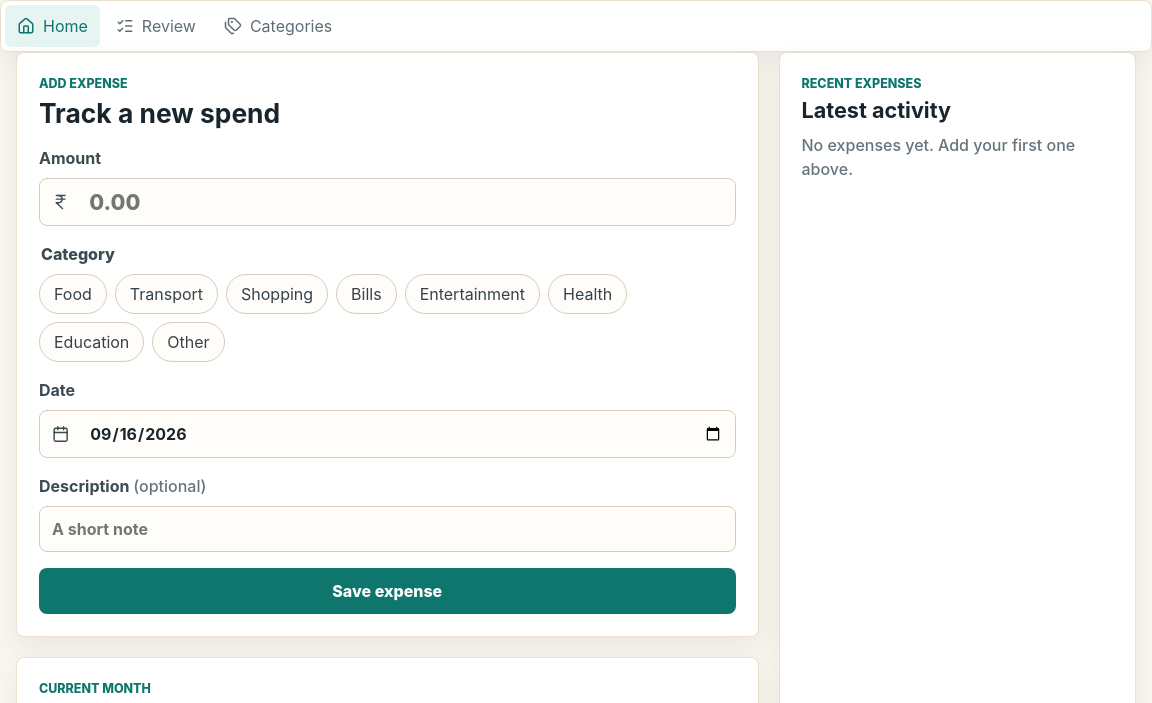
Test: Home shell › prevents saving invalid amount 0
Click the button "Food".
click(73, 294)  # box x1=39 y1=274 x2=107 y2=314
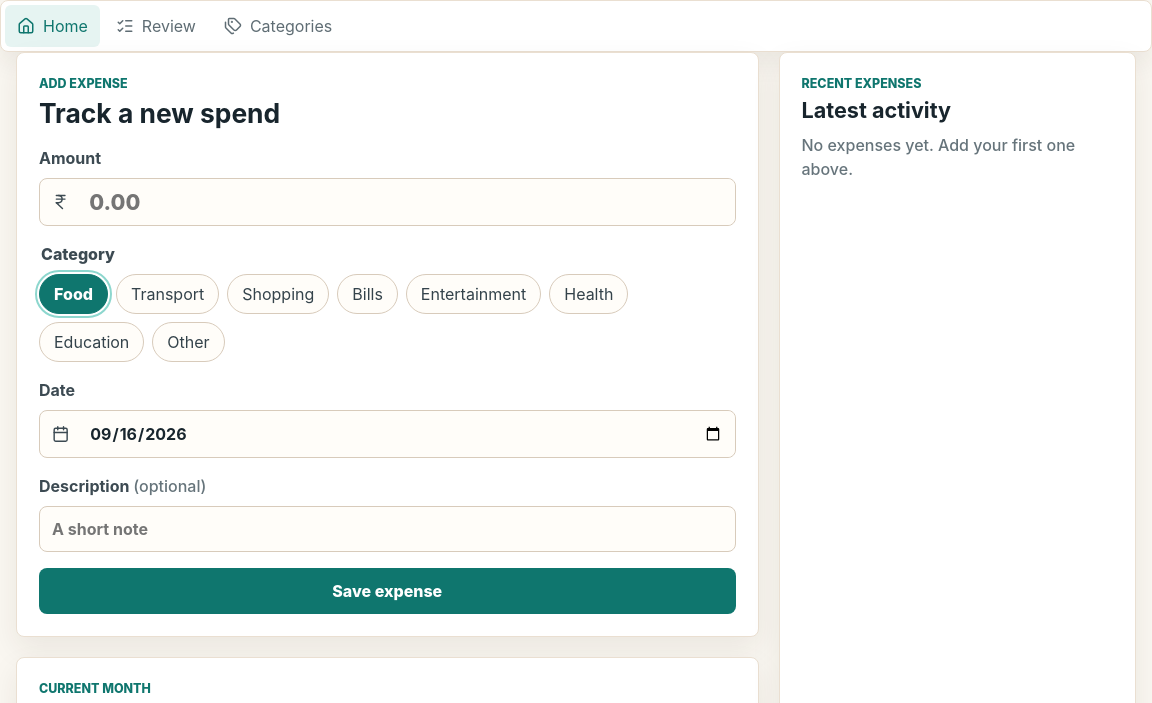
Type "0" into the field labelled "Amount".
click(406, 202); type("0")  # box x1=77 y1=179 x2=734 y2=225
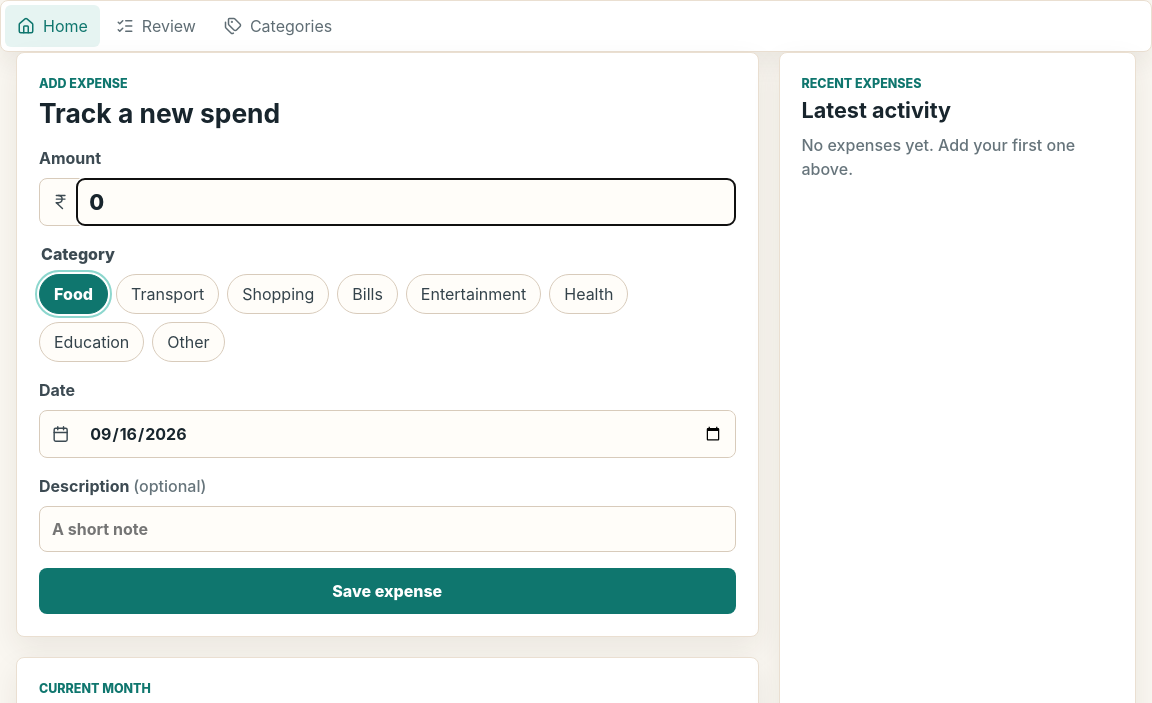
Click the button "Save expense".
click(387, 591)  # box x1=39 y1=568 x2=736 y2=614
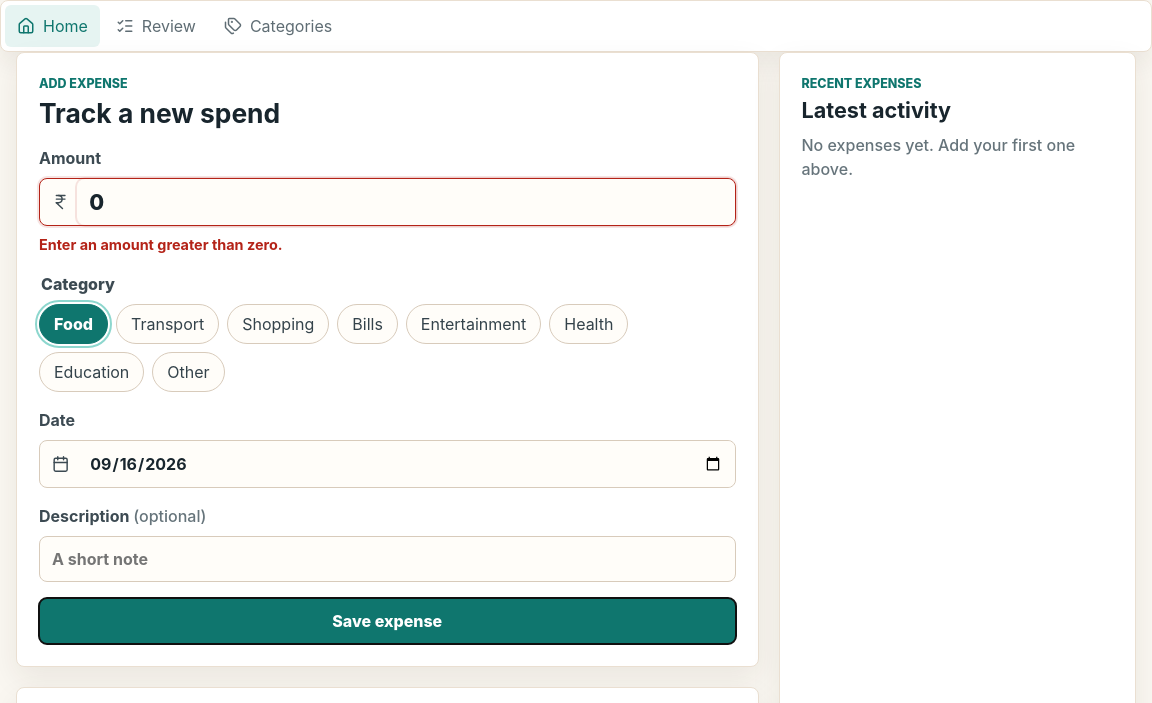
Expected: the text "Enter an amount greater than zero." is shown, x1=39 y1=236 x2=283 y2=253
